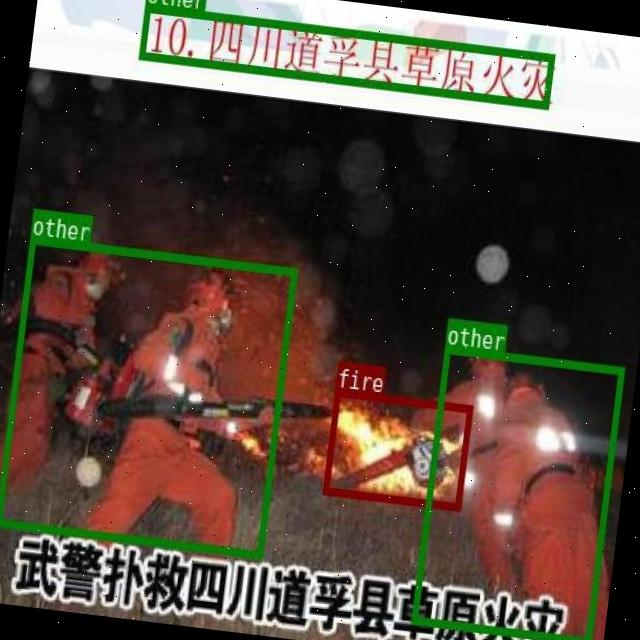fire: (322, 388, 471, 509)
